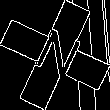N_SW: (26, 24, 84, 86)
